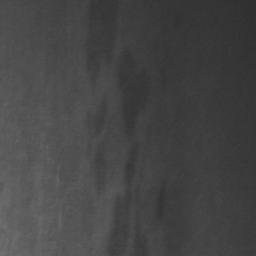Inclusion: (108, 145, 140, 256), (84, 0, 120, 84), (118, 47, 150, 134)
